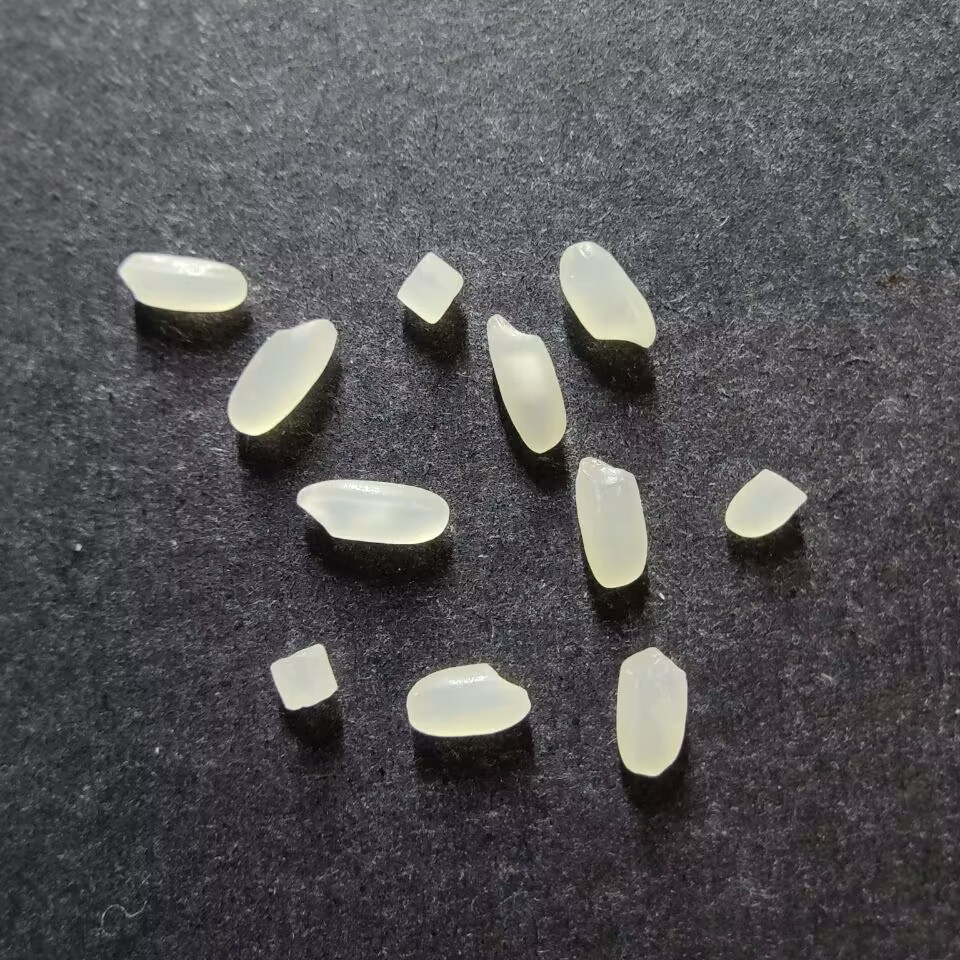broken: (723, 468, 806, 537), (396, 251, 464, 324), (268, 643, 338, 710)
rice: (227, 317, 336, 436), (486, 314, 567, 453), (558, 241, 656, 348), (295, 479, 449, 544), (574, 456, 648, 588), (614, 647, 687, 776), (405, 662, 530, 737), (117, 252, 248, 312)
